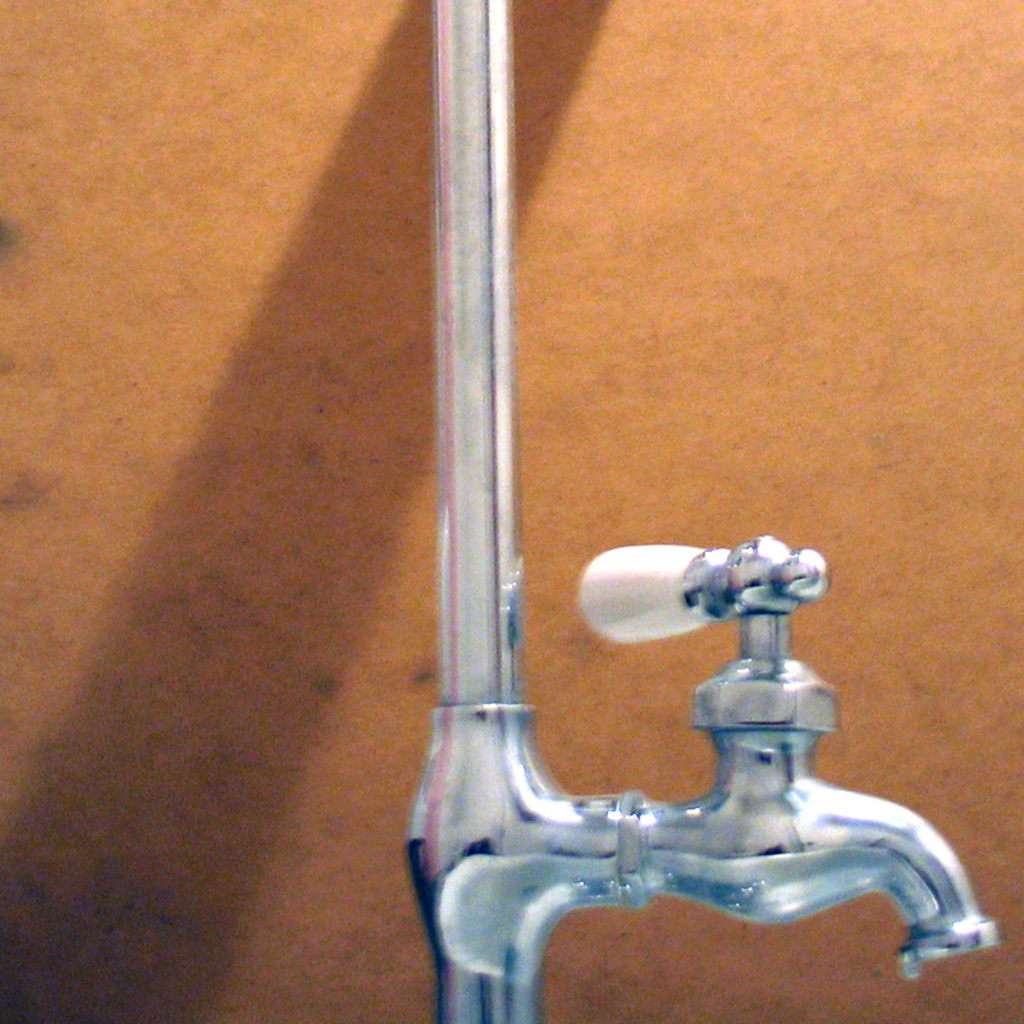tap: (444, 527, 1006, 995)
